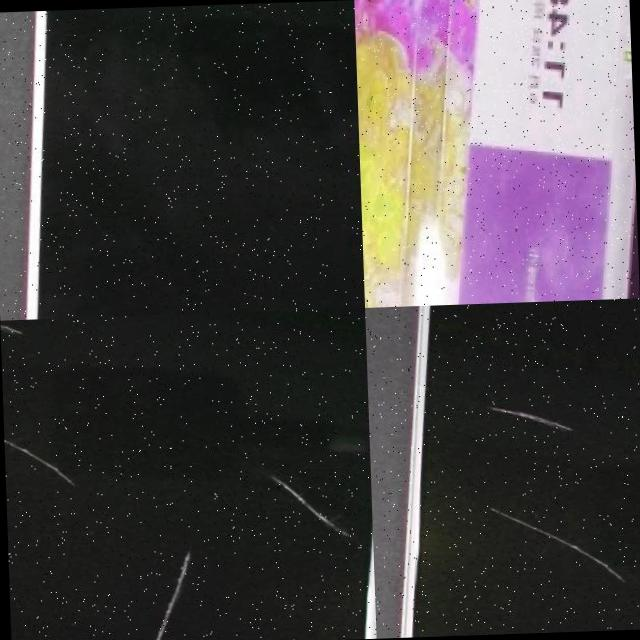scratch: (475, 508, 633, 600), (260, 473, 352, 548), (3, 414, 78, 497), (146, 551, 198, 640), (482, 412, 568, 442)
